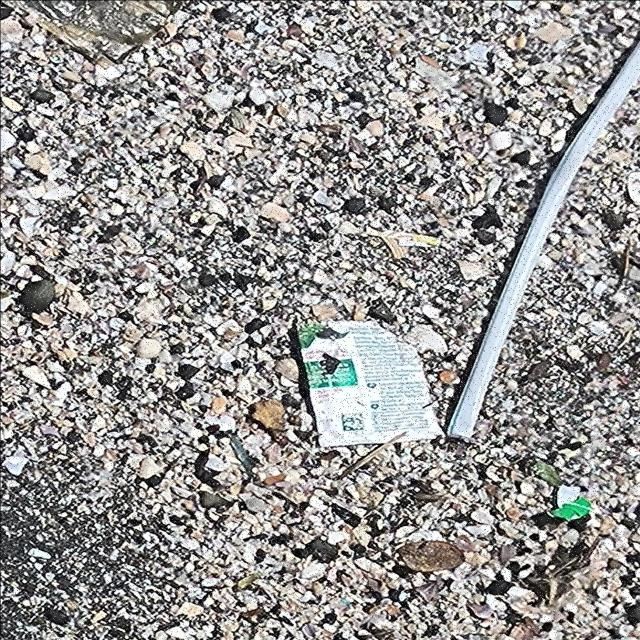plastic_waste: (447, 43, 640, 441), (295, 320, 446, 448)
